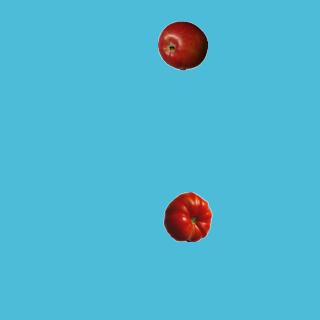Apple Braeburn: (157, 20, 207, 70)
Tomato 3: (162, 191, 212, 241)
